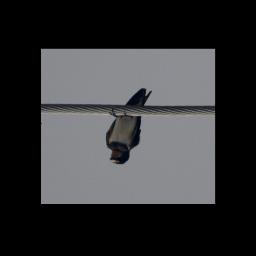Swallow: (106, 88, 153, 165)
